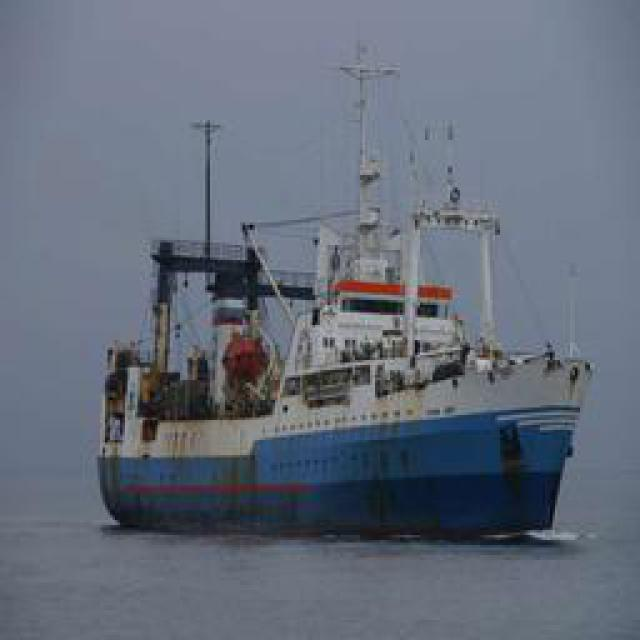Ship: (99, 55, 594, 535)
